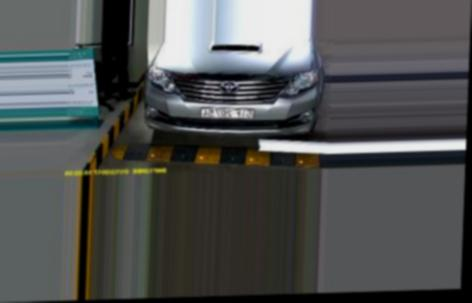License_Plate: (200, 103, 254, 122)
